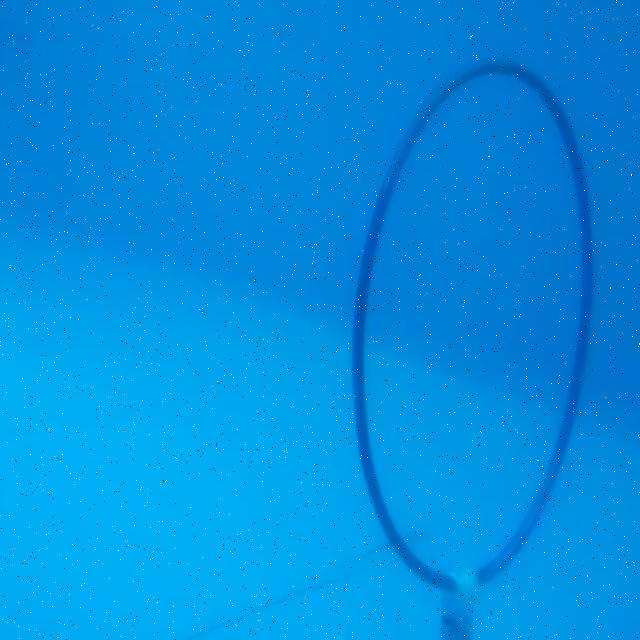Circle: (339, 49, 609, 612)
